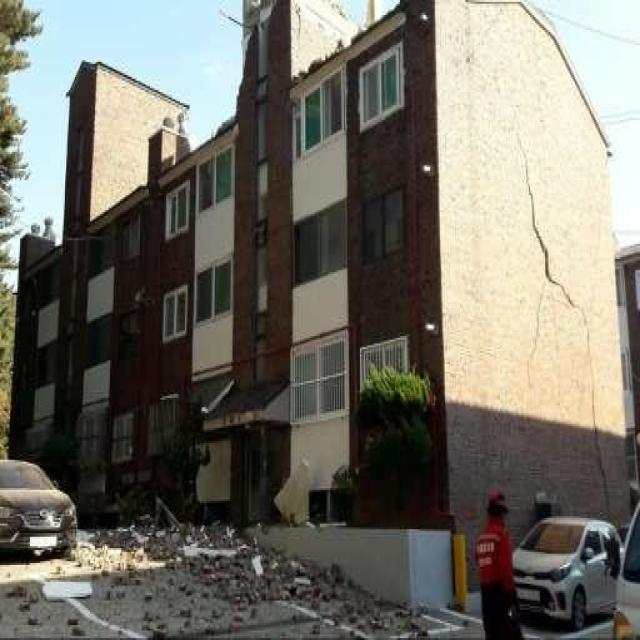damage: (491, 109, 624, 534), (53, 510, 428, 640)
